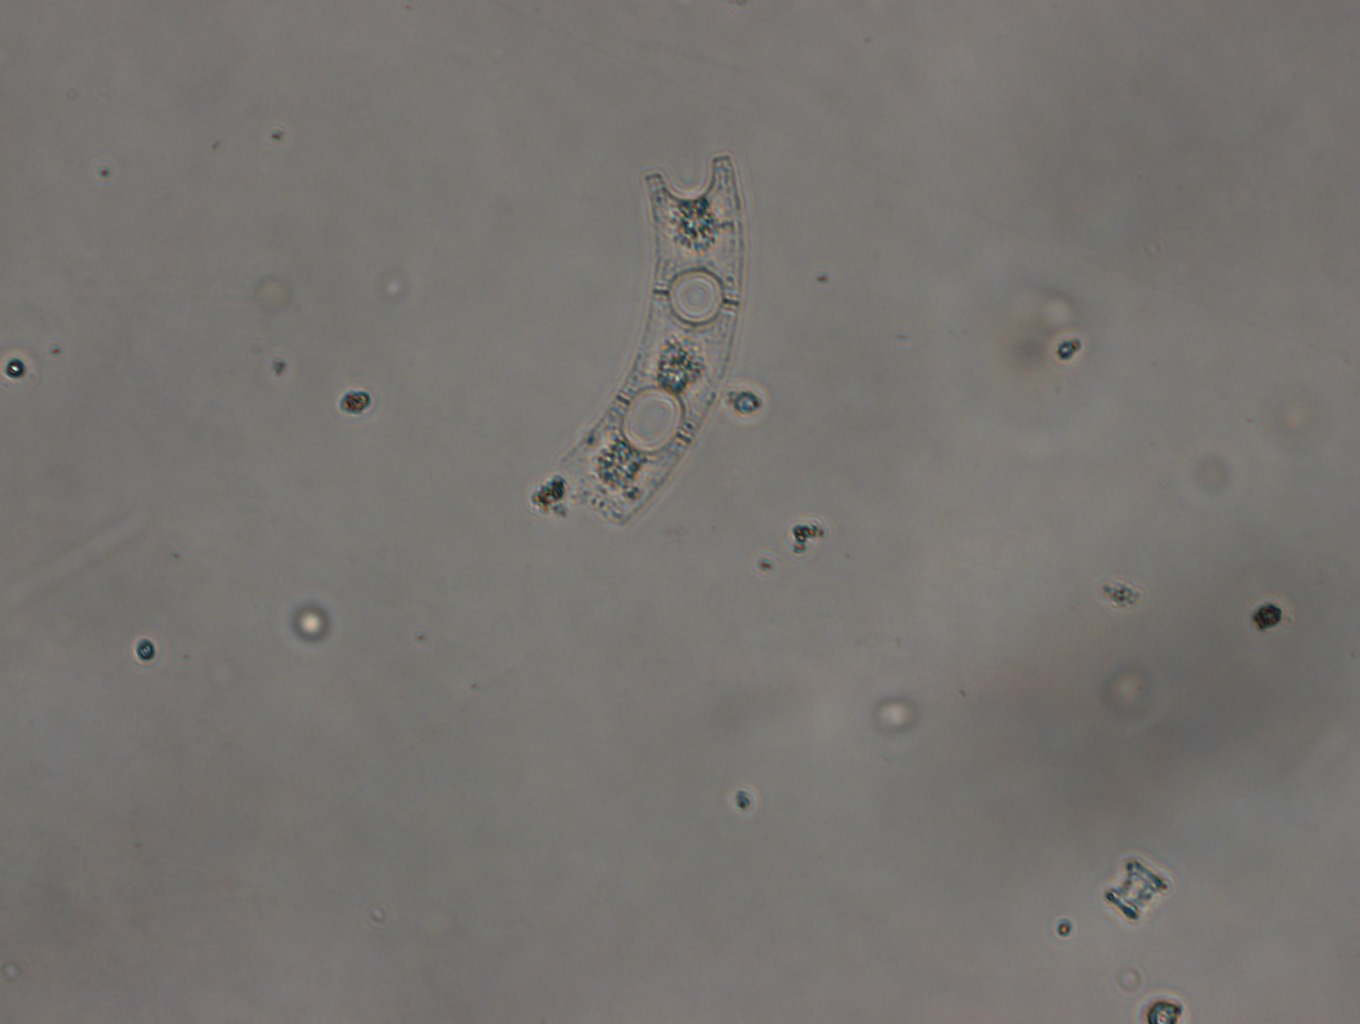eucampia: (556, 159, 757, 523)
